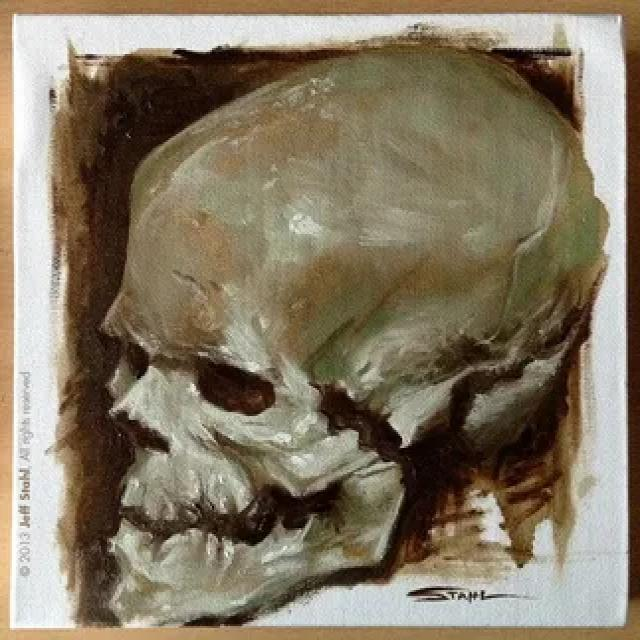skull: (88, 38, 603, 620)
